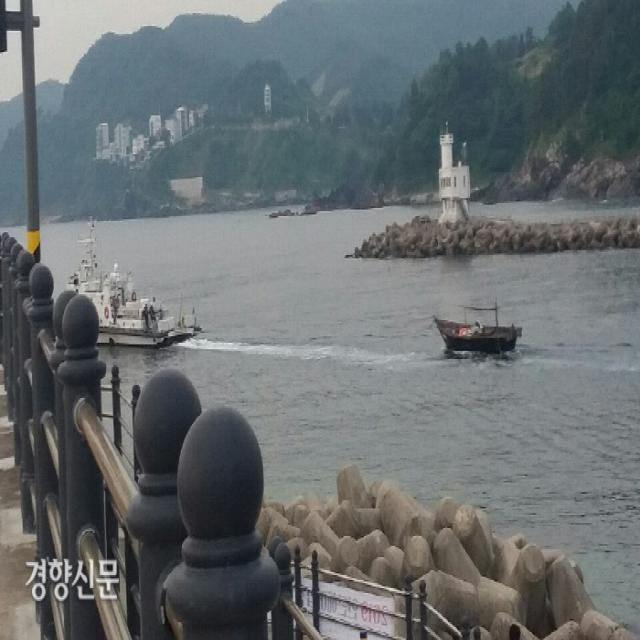Ship: (431, 294, 526, 362)
